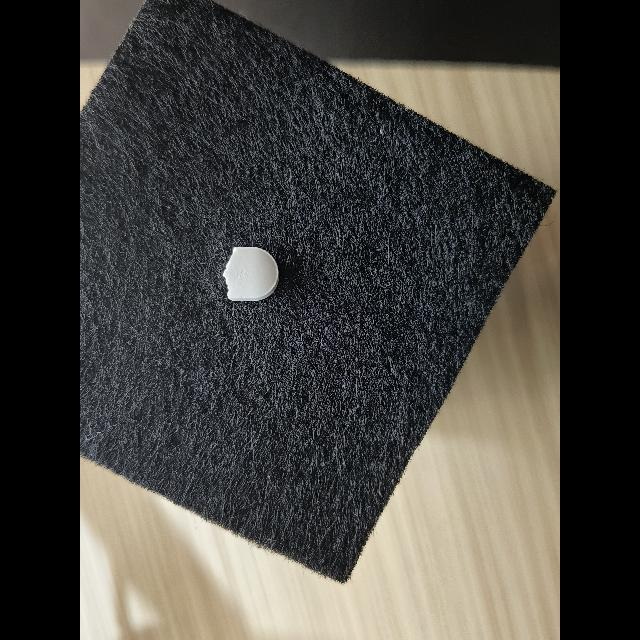Chipped Pill: (222, 247, 279, 301)
